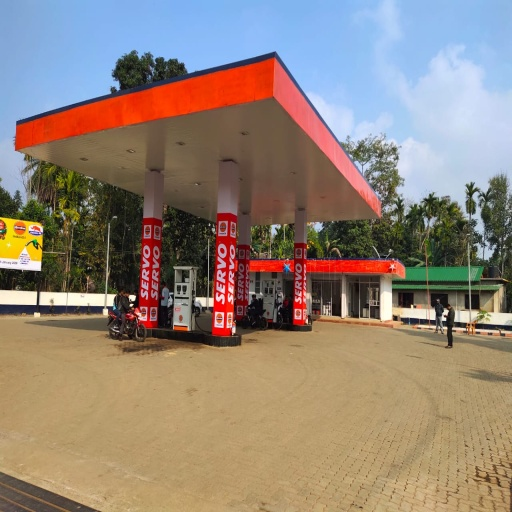roof: (15, 56, 381, 238)
